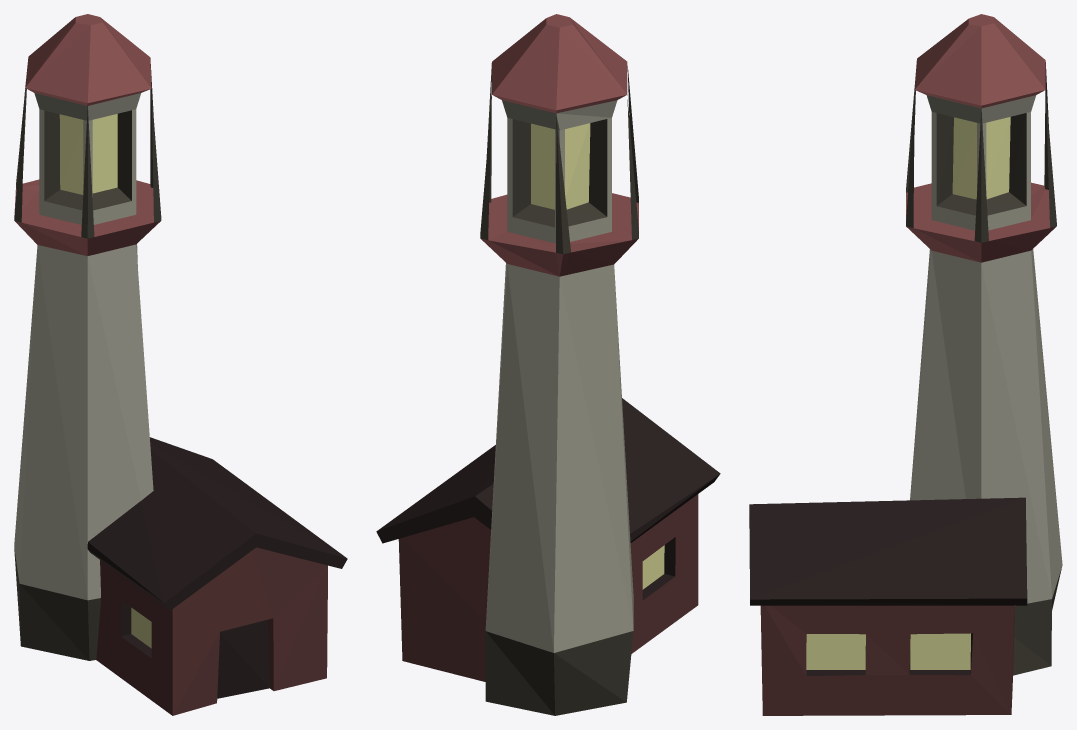
File: lighthouse.fbx
The picture shows the model from 3 angles, left to right: view 1: azimuth 30°, elevation 25°; view 2: azimuth 150°, elevation 25°; view 3: azimuth 270°, elevation 25°; orthographic projection. The views are drawn at different scales.
Visible parts, largest first — view 1: pCube2; view 2: pCube2; view 3: pCube2.
Boxes of the visible parts, x1,y1,x2,y2 form: pCube2: (14, 14, 347, 715); pCube2: (376, 14, 720, 715); pCube2: (749, 14, 1062, 715).
Bounding box in the file's own units: 1.1 × 2.93 × 1.32.
